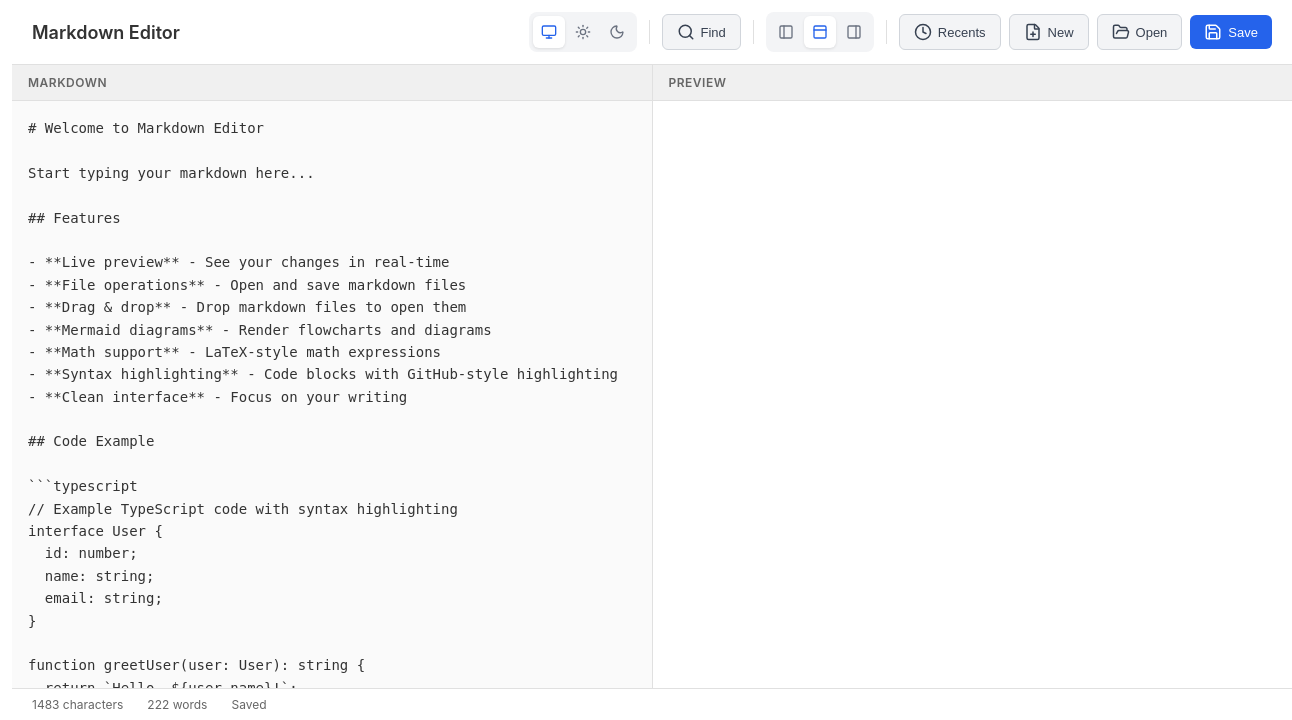
Test: App › opens a file and displays content
The width and height of the screenshot is (1292, 720).
Click the button titled "Open File" at (1139, 32), box [1096,14,1182,50]
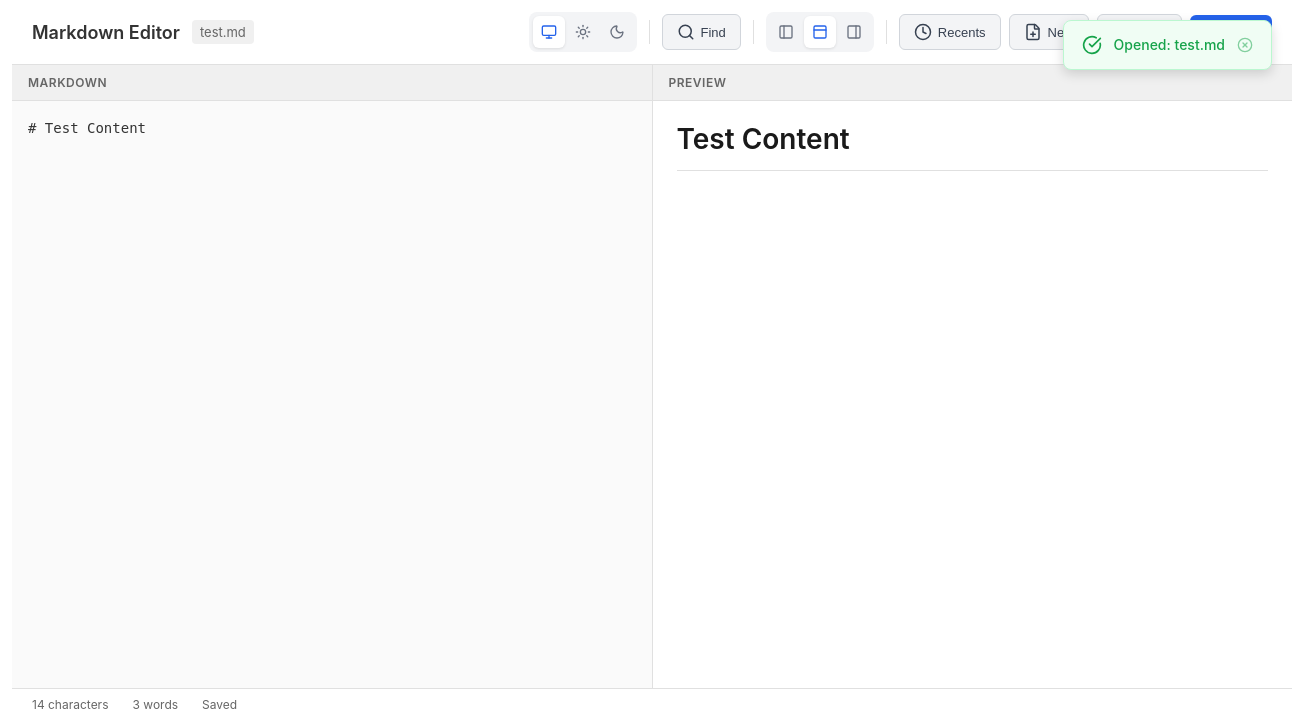
Check: the text "Saved" is shown, box [202,697,237,712]
Check: the text box with placeholder "Type your markdown here..." holds "# Test Content", box [12,101,652,688]
Check: the text "test.md" is shown, box [192,20,254,44]
